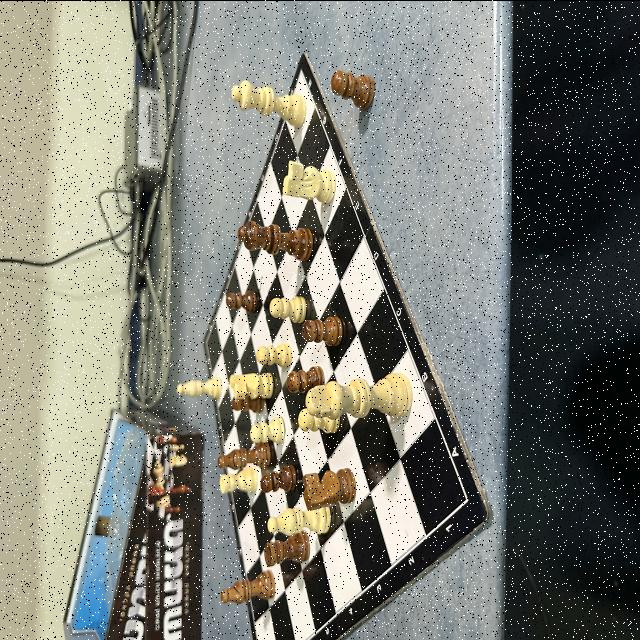Black-Bishop: (220, 568, 276, 604), (218, 443, 272, 469)
Black-Knight: (302, 466, 356, 510)
Black-Pawn: (330, 70, 376, 110), (302, 314, 344, 346), (260, 464, 296, 492), (286, 364, 324, 386), (225, 290, 258, 312), (232, 397, 263, 412)
Black-Queen: (238, 219, 314, 261)
Black-Rook: (264, 534, 310, 566)
White-Bishop: (267, 508, 331, 536), (175, 374, 222, 398)
White-King: (305, 371, 413, 419)
White-Knight: (282, 159, 336, 203), (230, 371, 274, 397)
White-Pawn: (269, 294, 307, 322), (250, 415, 286, 443), (256, 342, 292, 368), (298, 410, 340, 432)
White-Queen: (232, 78, 306, 128)
White-Rook: (220, 469, 258, 494)
